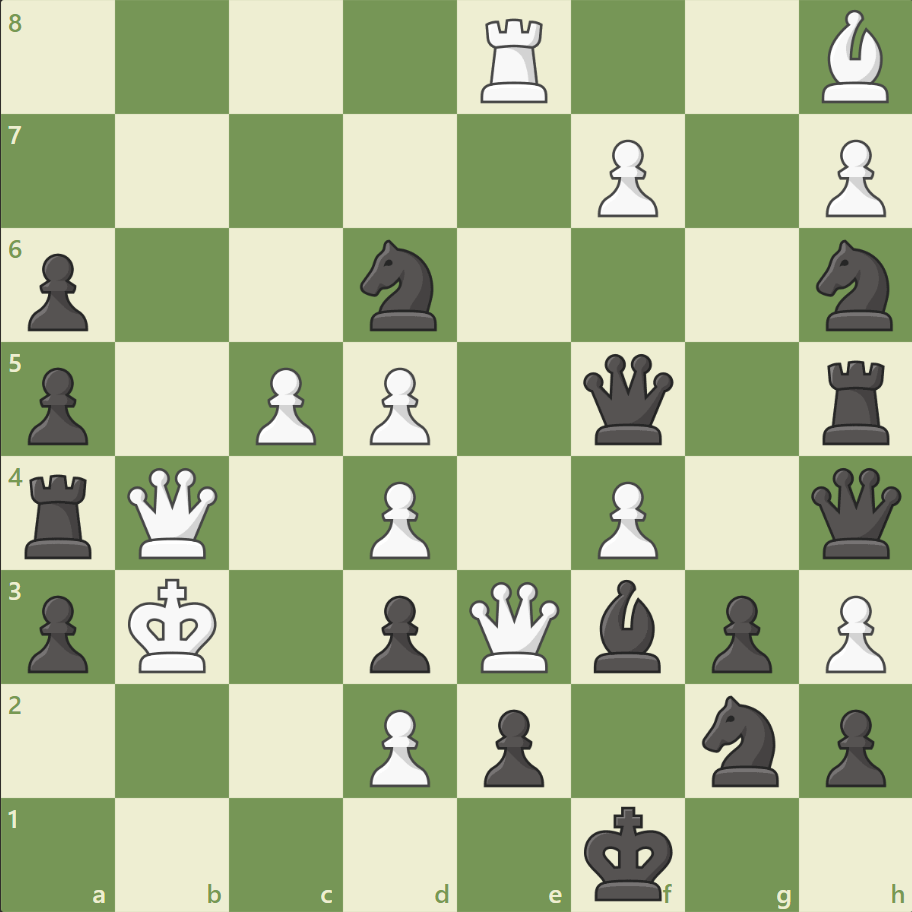B: (812, 6, 896, 109)
K: (124, 571, 224, 679)
P: (247, 359, 322, 450), (588, 132, 662, 223), (815, 132, 889, 223), (361, 359, 435, 450), (361, 473, 435, 564), (588, 473, 662, 564), (815, 586, 889, 677), (361, 700, 435, 791)
Q: (464, 576, 563, 676), (124, 463, 223, 562)
R: (473, 12, 556, 109)
b: (585, 574, 669, 676)
k: (579, 798, 679, 906)
n: (351, 234, 449, 337), (806, 234, 903, 337), (692, 688, 789, 791)
p: (20, 246, 95, 337), (20, 359, 95, 450), (20, 586, 95, 677), (701, 586, 776, 677), (474, 700, 549, 791), (361, 586, 435, 677), (815, 700, 889, 791)
q: (578, 349, 677, 449), (805, 463, 904, 562)
r: (814, 352, 897, 449), (19, 466, 102, 563)
